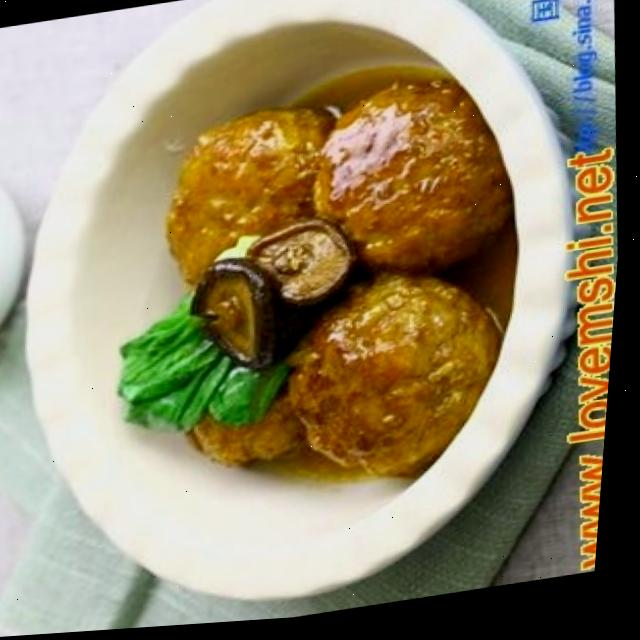猪肉菜式: (9, 2, 587, 599)
